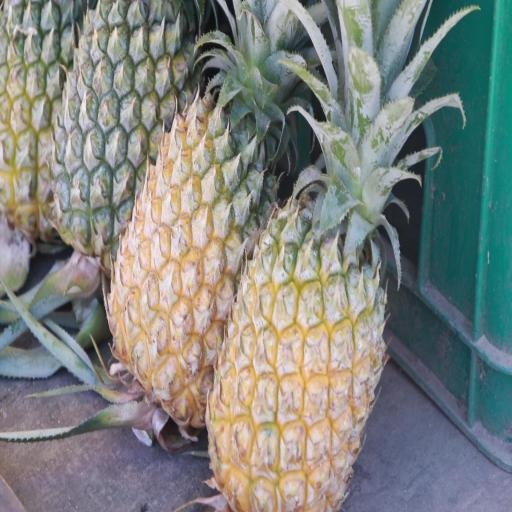Pineapple - v8 v1: (132, 183, 197, 265)
